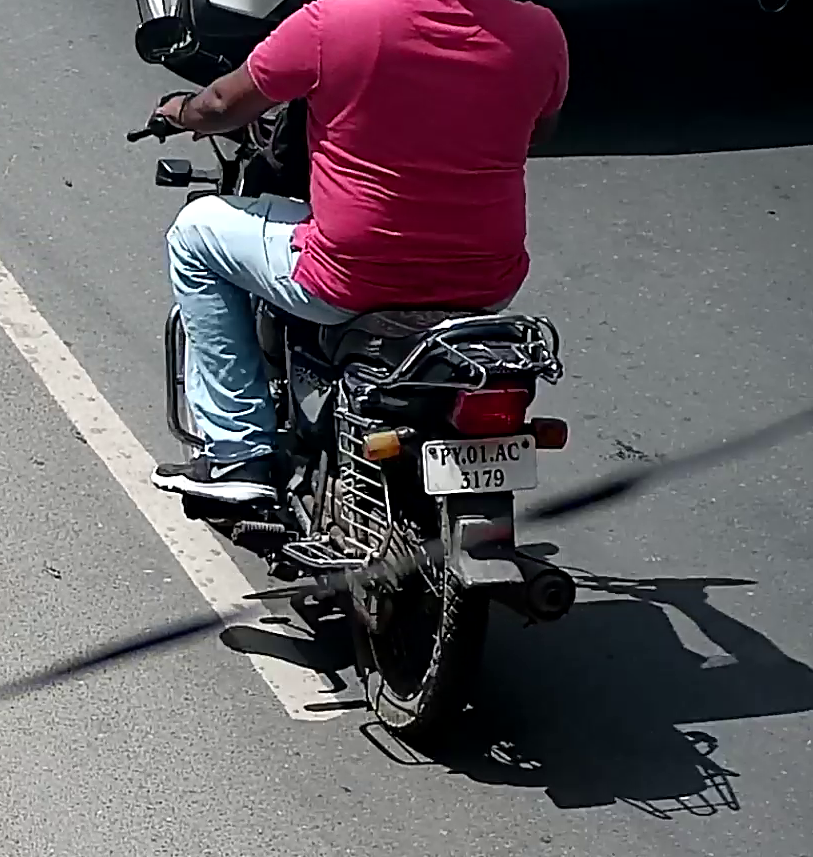.: (461, 457, 466, 465), (489, 456, 494, 463)
0: (467, 445, 478, 464)
1: (478, 444, 488, 464), (471, 470, 481, 489)
3: (460, 471, 471, 490)
7: (481, 469, 493, 489)
9: (494, 468, 505, 488)
A: (495, 443, 507, 462)
C: (507, 441, 521, 462)
P: (439, 446, 451, 466)
P16: (421, 434, 539, 500)
Y: (451, 445, 461, 466)
